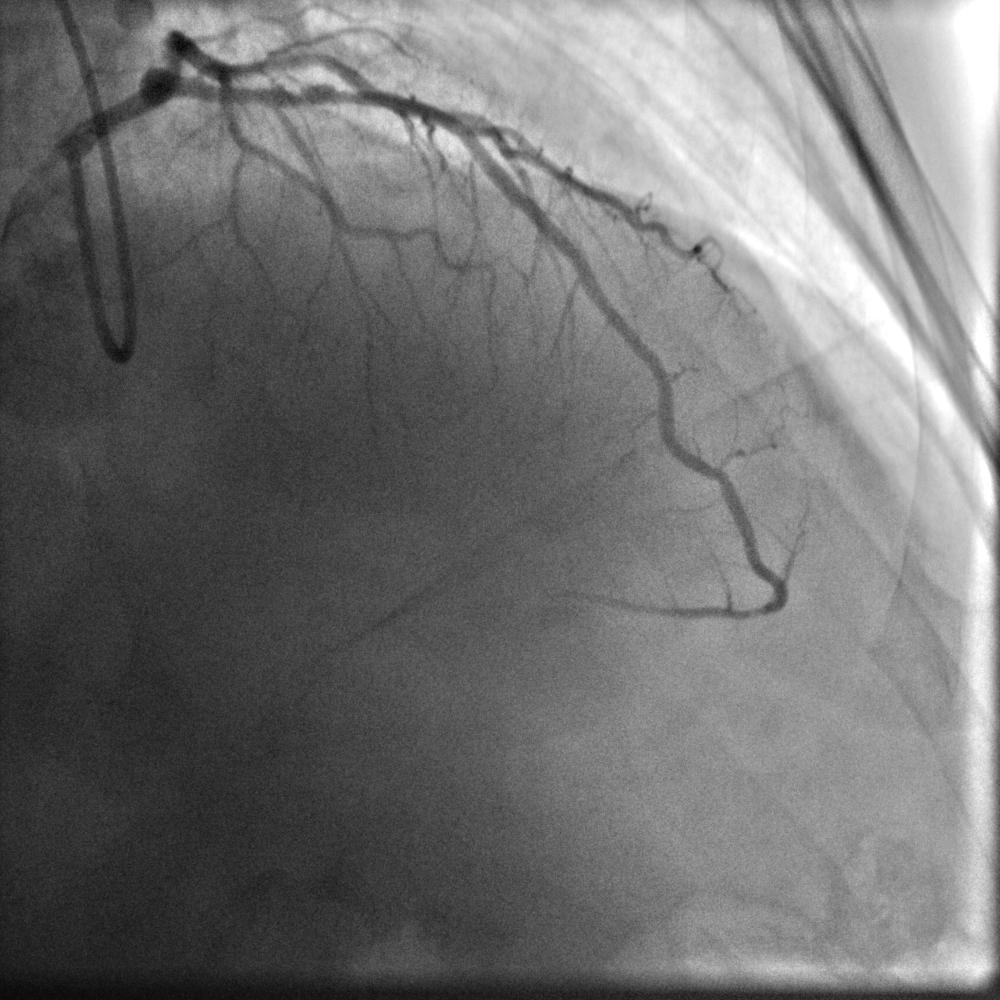Stenosis: (285, 83, 318, 106)
